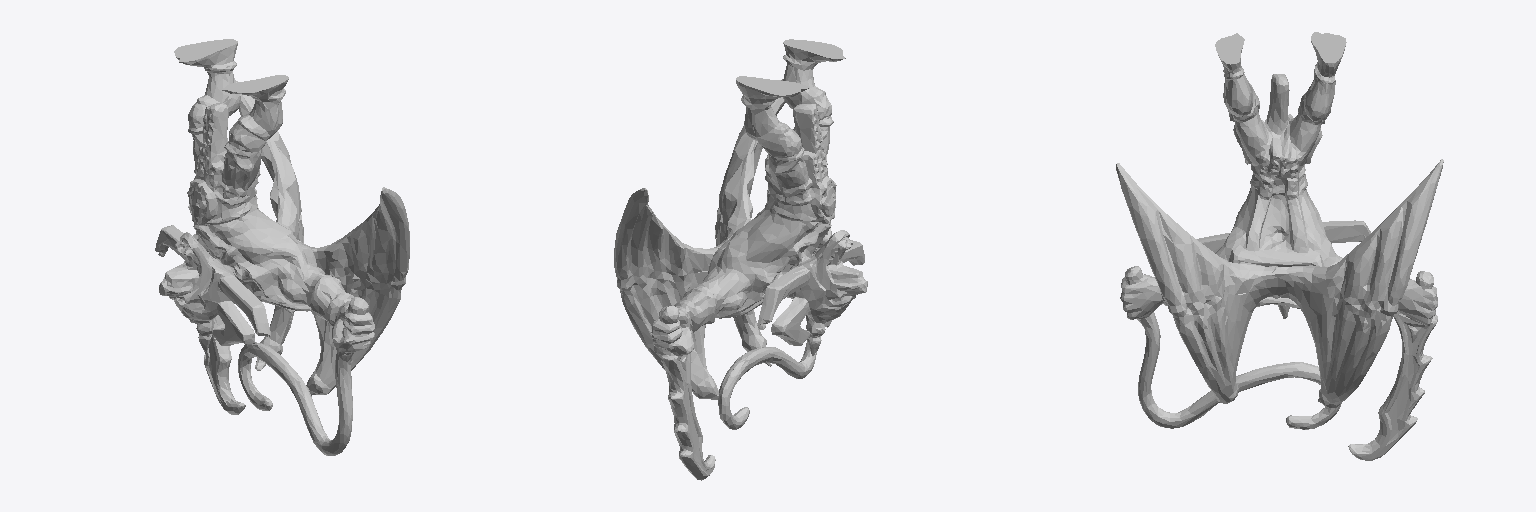
The model's file is gargoyle.obj.
3 renders of one model, left to right at view 1: azimuth 30°, elevation 25°; view 2: azimuth 150°, elevation 25°; view 3: azimuth 270°, elevation 25°, orthographic.
Bounding box in the file's own units: 3.58 × 6.86 × 5.21.